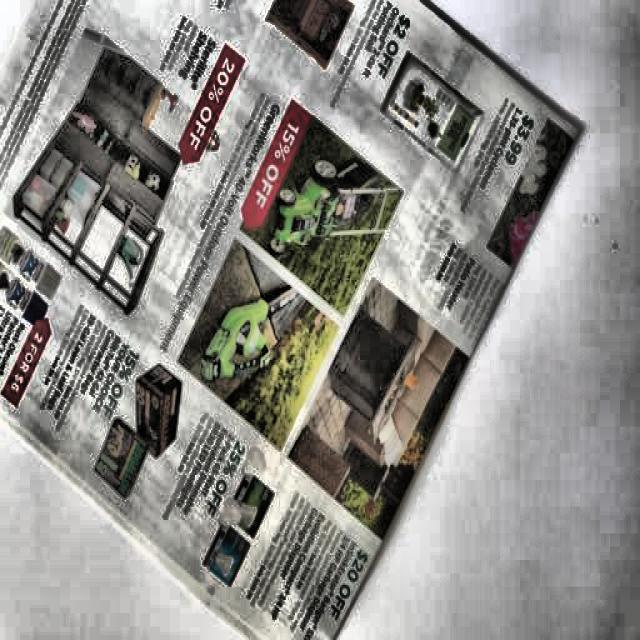paper: (6, 3, 554, 607)
